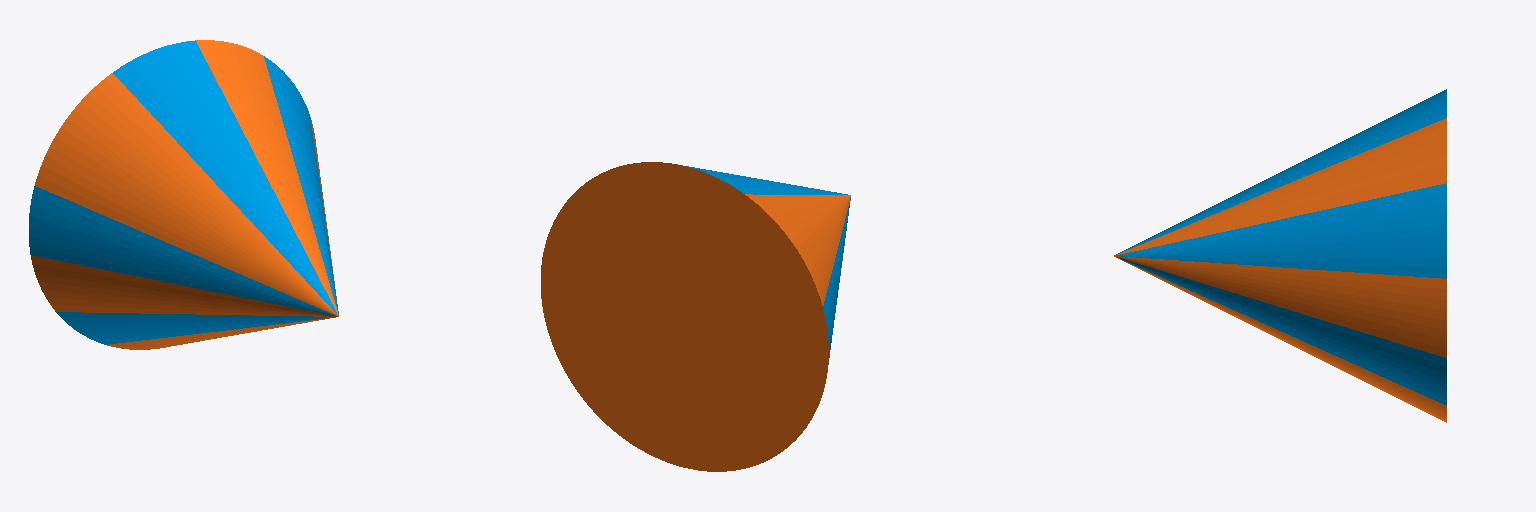
The model's file is PartyHat.obj.
3 views of the same model, side by side, from view 1: azimuth 30°, elevation 25°; view 2: azimuth 150°, elevation 25°; view 3: azimuth 270°, elevation 25° (orthographic).
Parts seen in each view (by area): view 1: Object.1; view 2: Object.1; view 3: Object.1.
Boxes of the visible parts, x1=… form: Object.1: x1=29, y1=40, x2=338, y2=349; Object.1: x1=541, y1=162, x2=850, y2=471; Object.1: x1=1114, y1=89, x2=1446, y2=422.
Size of the model in its own units: 39.98 by 39.98 by 40.